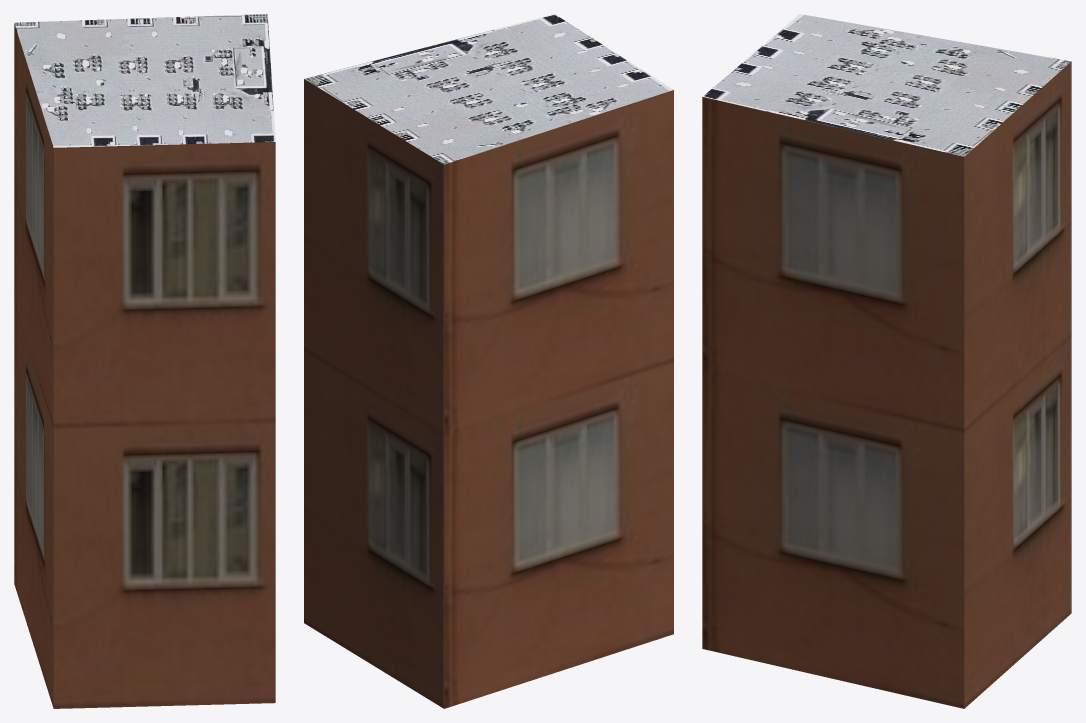
File: ResTex__1222.fbx
3 views of the same model, side by side, from view 1: azimuth 30°, elevation 25°; view 2: azimuth 150°, elevation 25°; view 3: azimuth 270°, elevation 25° (orthographic). The views are drawn at different scales.
Visible parts, largest first — view 1: CityEngineMaterial_20_m, CityEngineMaterial_4_m; view 2: CityEngineMaterial_20_m, CityEngineMaterial_4_m; view 3: CityEngineMaterial_20_m, CityEngineMaterial_4_m.
Boxes of the visible parts, x1,y1,x2,y2 form: CityEngineMaterial_20_m: (14,24,275,708); CityEngineMaterial_4_m: (14,14,275,147); CityEngineMaterial_20_m: (304,79,673,708); CityEngineMaterial_4_m: (304,14,673,164); CityEngineMaterial_20_m: (702,61,1071,708); CityEngineMaterial_4_m: (702,14,1070,156).
Size of the model in its own units: 3.33 by 6 by 3.64.
Materials: 2 (2 with a texture image).
